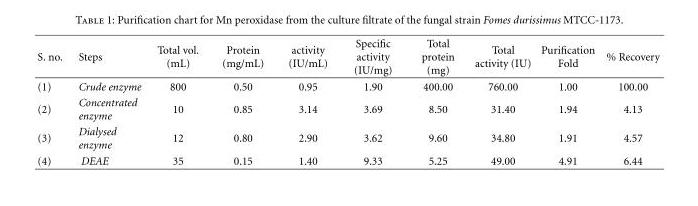table: (36, 37, 658, 166)
table column: (69, 37, 148, 166), (463, 37, 535, 166), (339, 37, 406, 166), (209, 37, 275, 166), (275, 37, 339, 166), (535, 37, 599, 166), (148, 37, 209, 166), (599, 37, 658, 166), (406, 37, 463, 166), (36, 37, 69, 166)
table column header: (36, 37, 658, 77)
table row: (36, 37, 658, 77), (36, 94, 658, 123), (36, 123, 658, 152), (36, 77, 658, 94), (36, 152, 658, 166)
